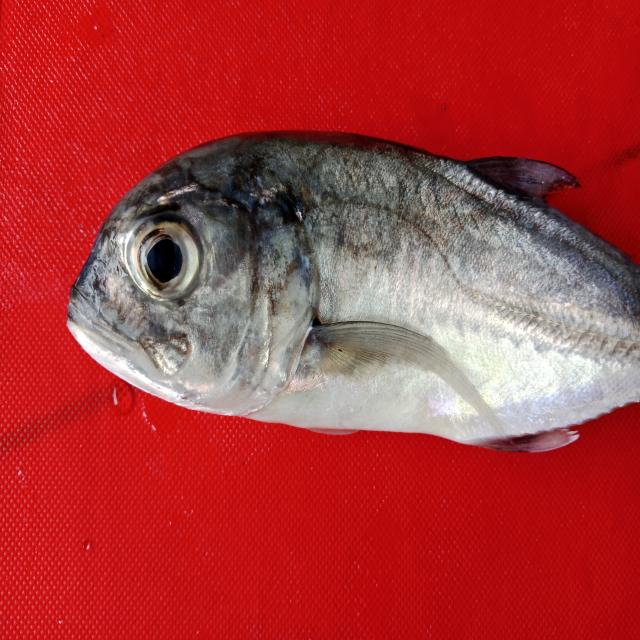ikan: (65, 128, 639, 453)
